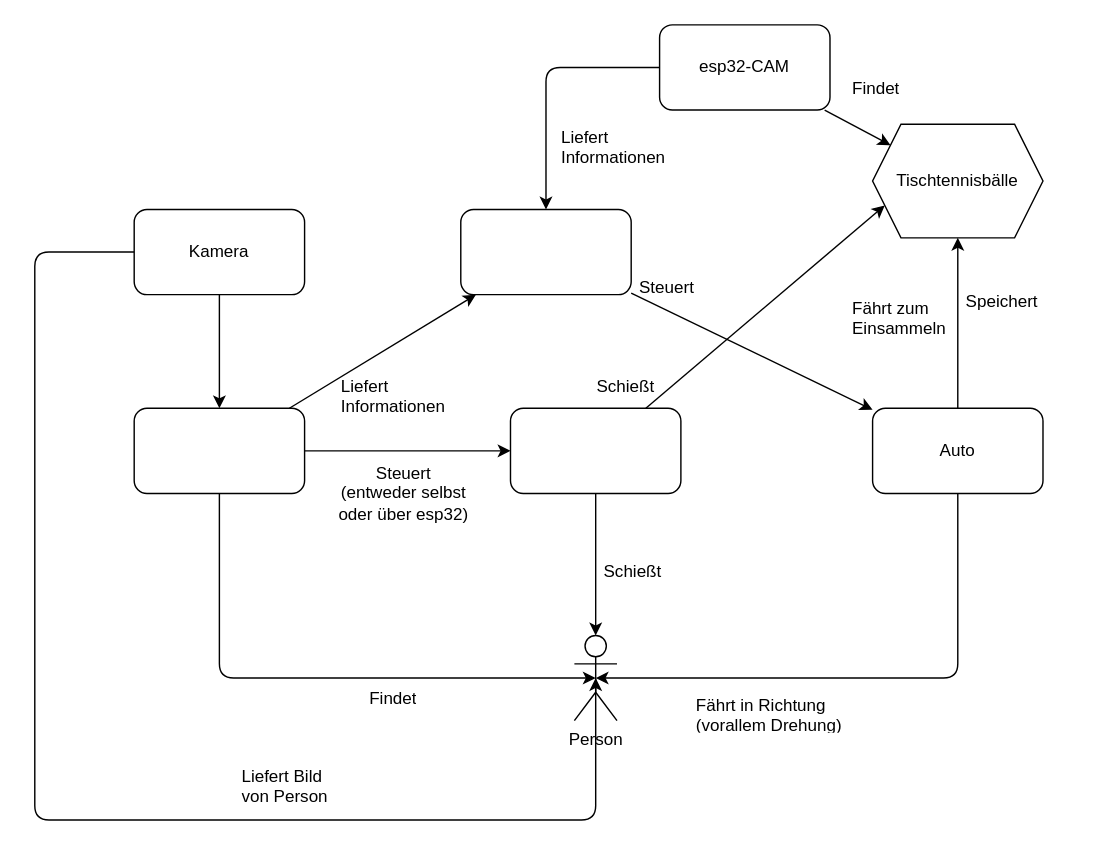
Image size: 1096x856. Some labels were removed from this diagram. The shapes that lost their labels are listed below. From the top down, each one's centre as x and y in pixels, then its label:
(x=545, y=251): esp32
(x=219, y=450): Raspberry Pi
(x=595, y=450): Geschütz
